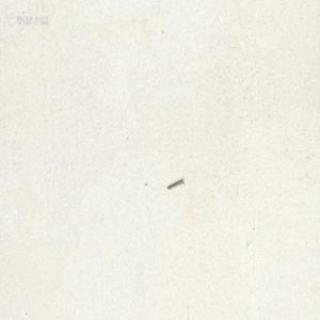Bolttrack_idkeyframe: (165, 175, 182, 188)
